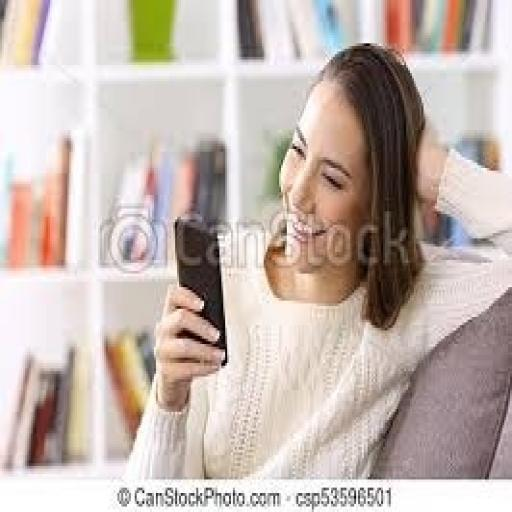texting: (121, 38, 510, 479)
